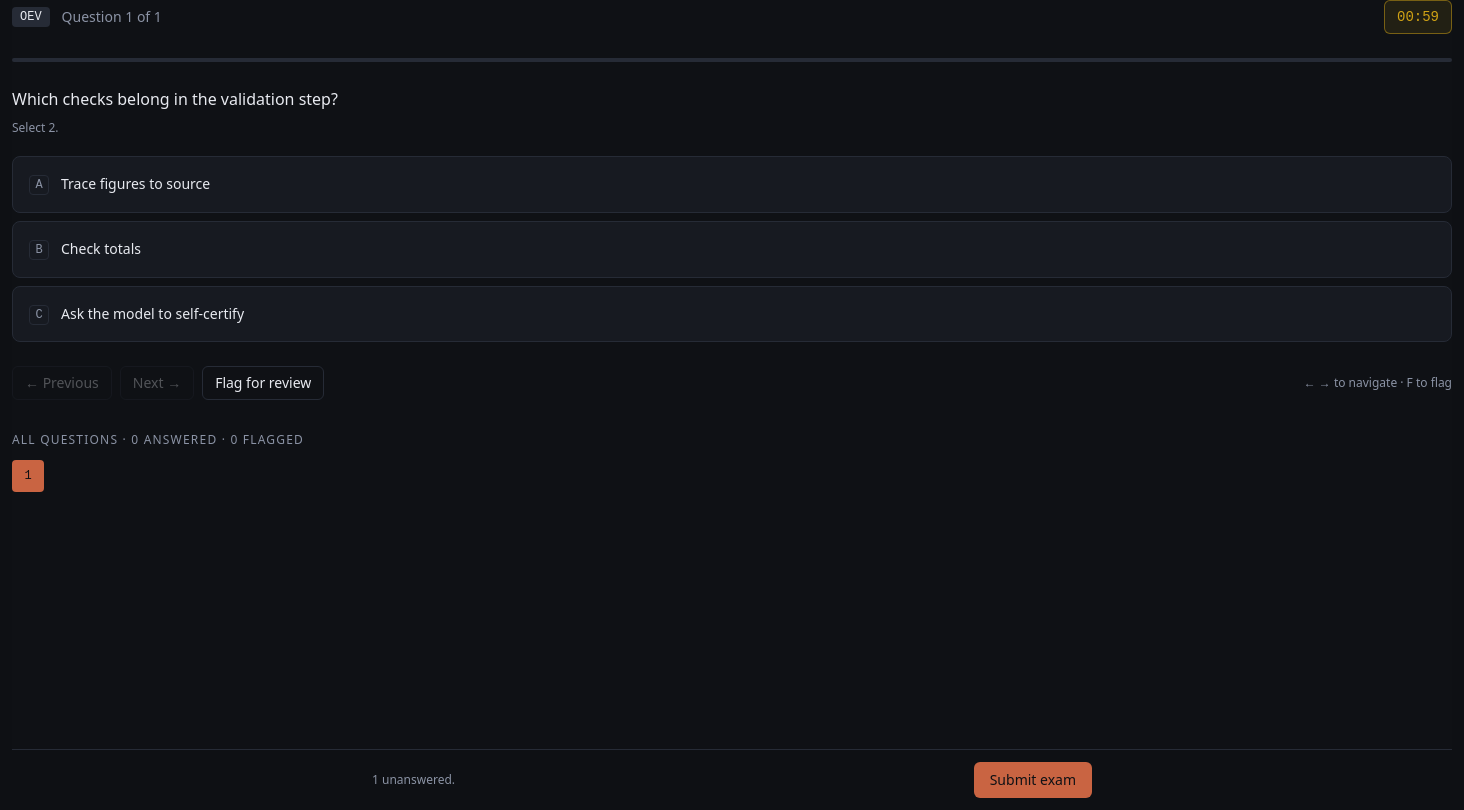
Select N on multi-response items › disables submitting while an MR item holds fewer than N selections
Click the text "Trace figures to source".
click(136, 184)  # box [61,173,210,196]
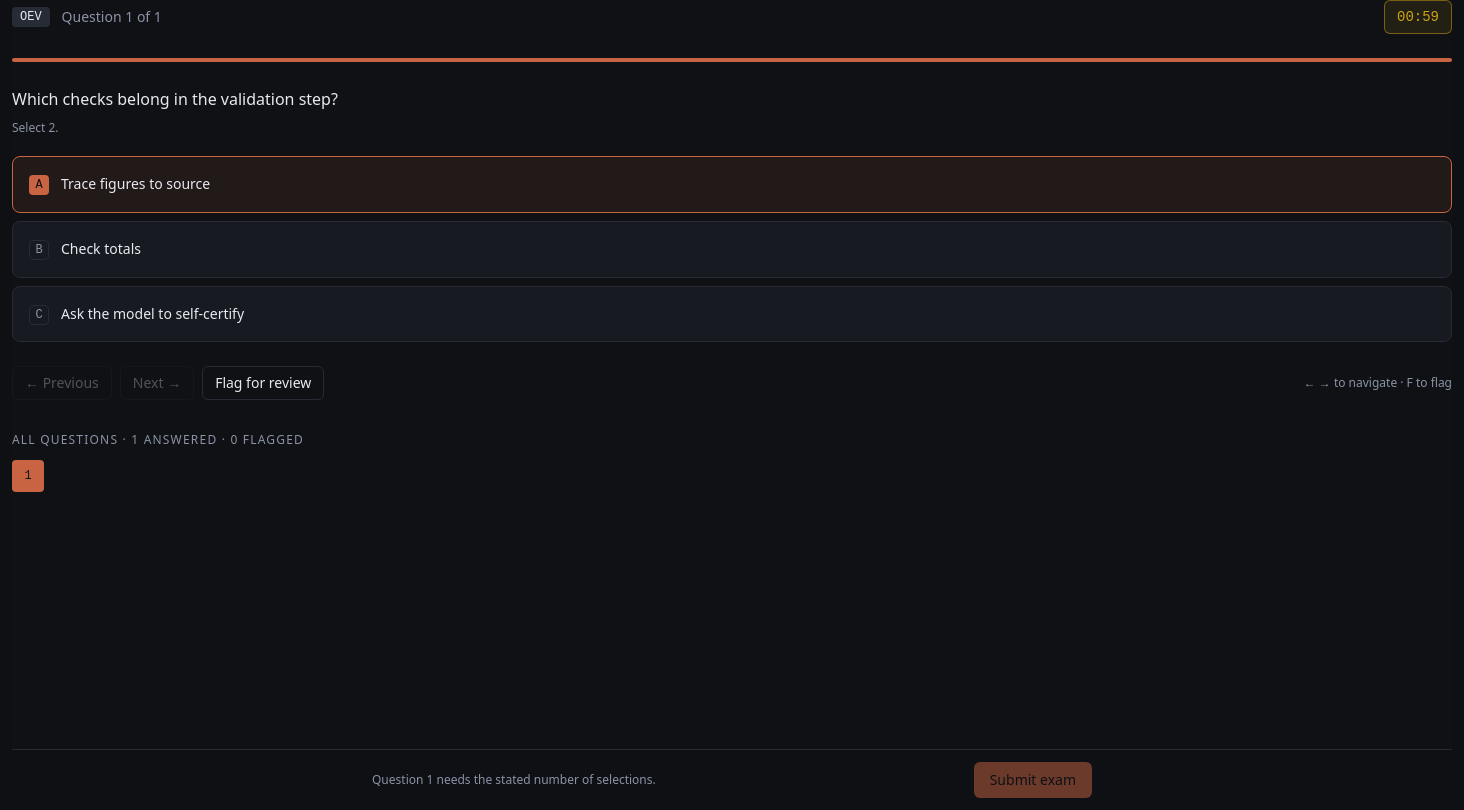
Now the button "Submit exam" is disabled, box [974,762,1092,798]
Click the text "Check totals".
click(101, 249)  # box [61,238,141,261]
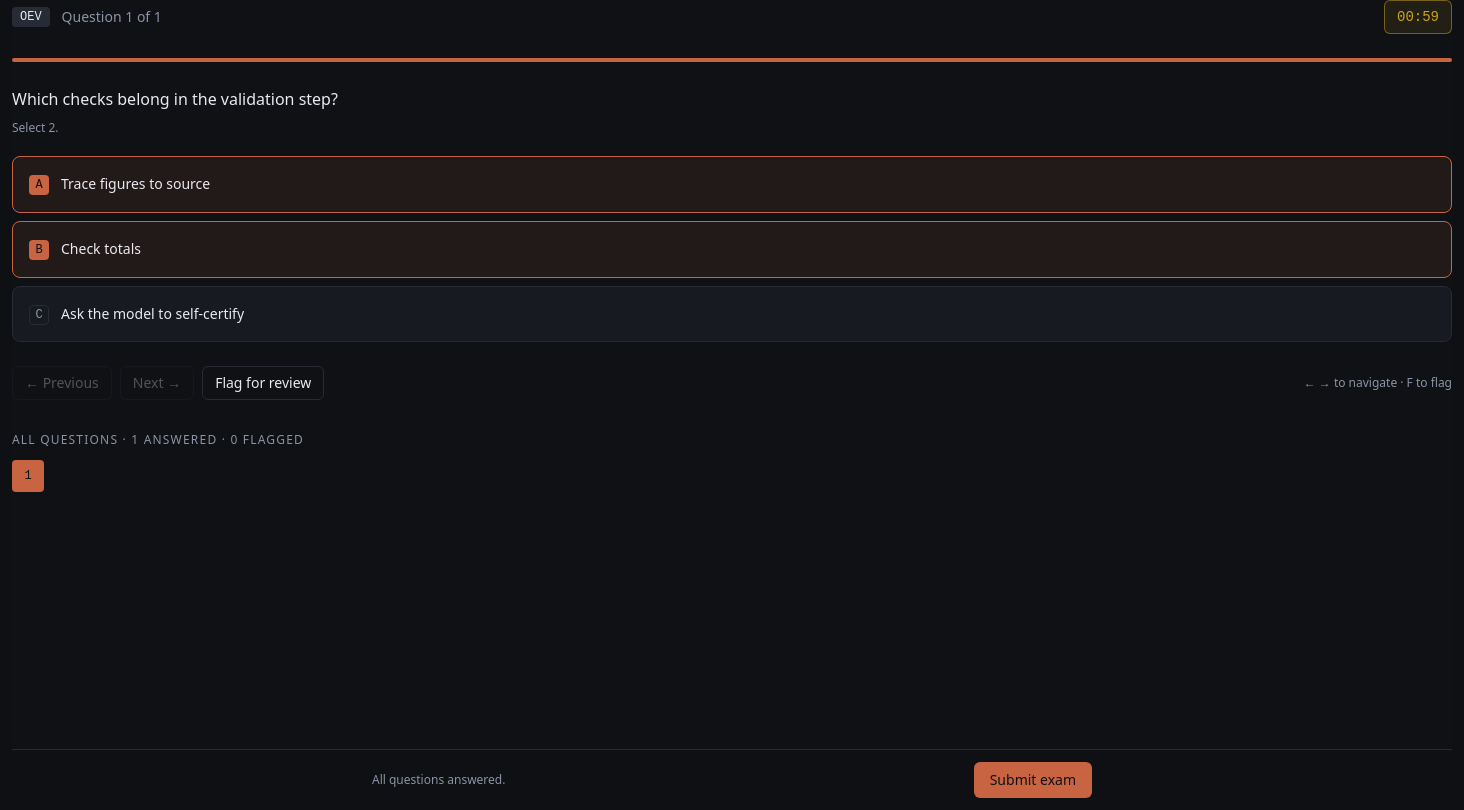
Now the button "Submit exam" is enabled, box [974,762,1092,798]
